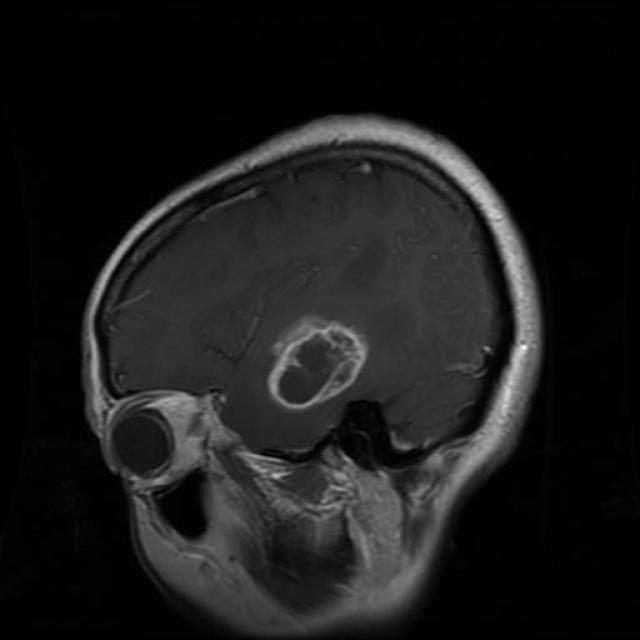brain_tumor: (268, 319, 368, 409)
